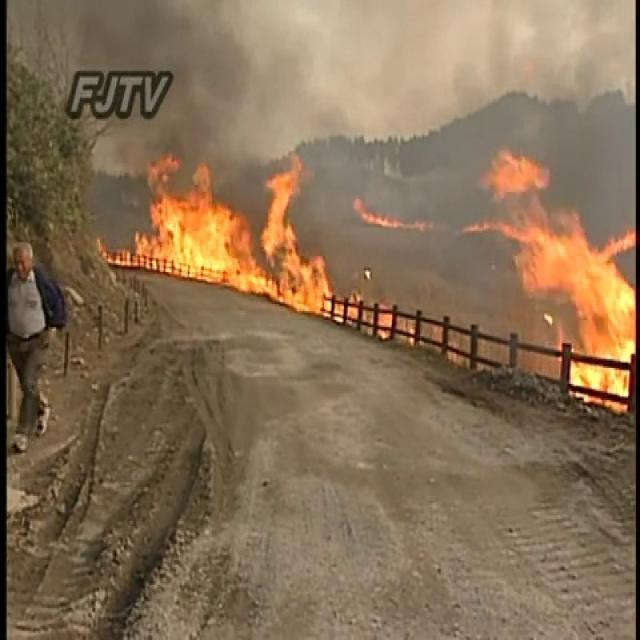Fire: (150, 200, 242, 286), (532, 233, 593, 299), (594, 288, 632, 356)
